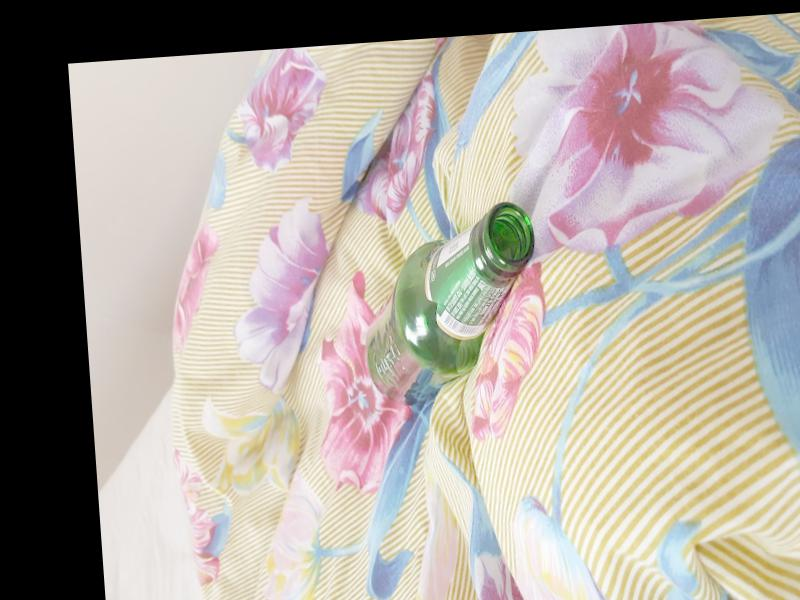Beer: (356, 198, 547, 407)
